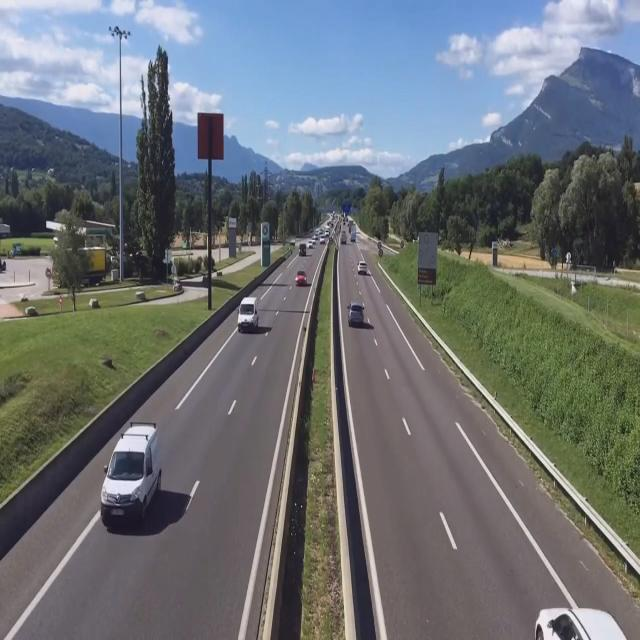car: (99, 424, 163, 535), (526, 608, 638, 640), (238, 299, 260, 335), (349, 303, 366, 330), (357, 263, 368, 277)
